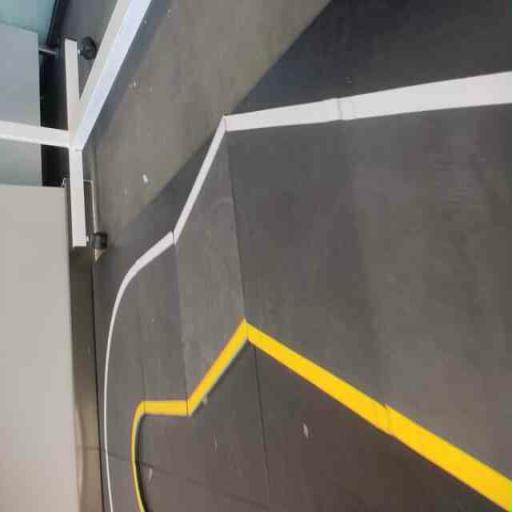crossleft: (173, 99, 251, 443)
